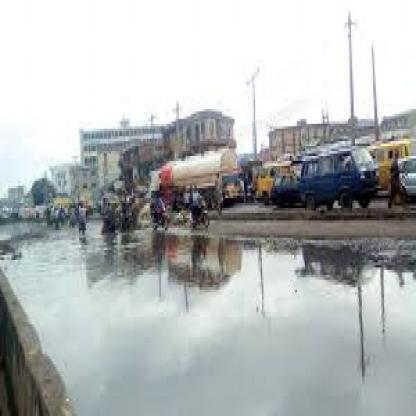car: (293, 140, 382, 218), (151, 148, 245, 220)
